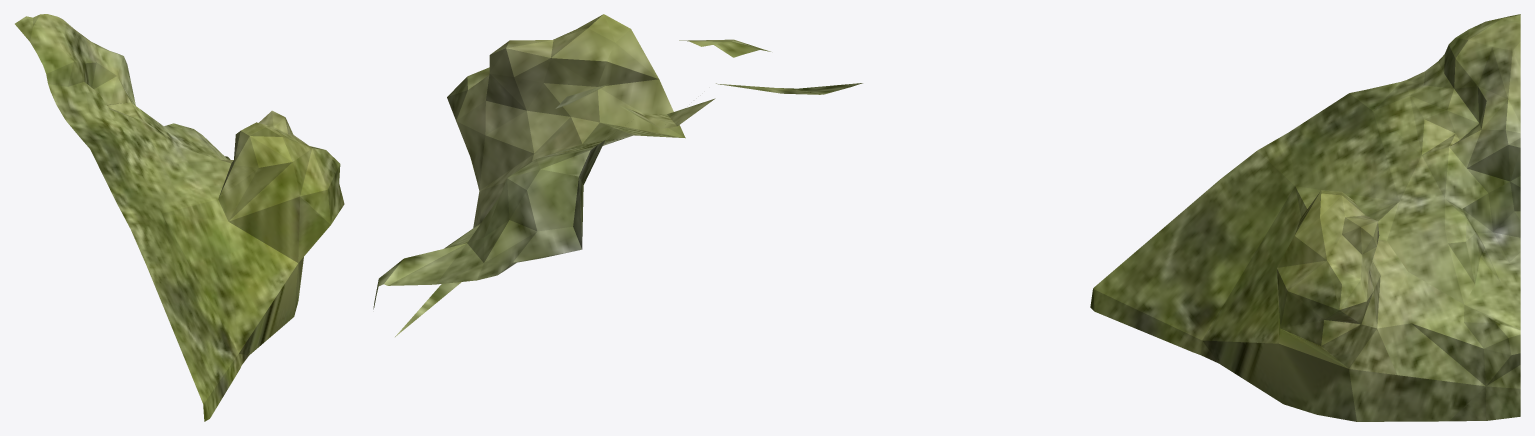
3 views of the same model, side by side, from view 1: azimuth 30°, elevation 25°; view 2: azimuth 150°, elevation 25°; view 3: azimuth 270°, elevation 25° (orthographic). The views are drawn at different scales.
Size of the model in its own units: 2.41 by 2.47 by 3.22.
1 material, 1 textured.
